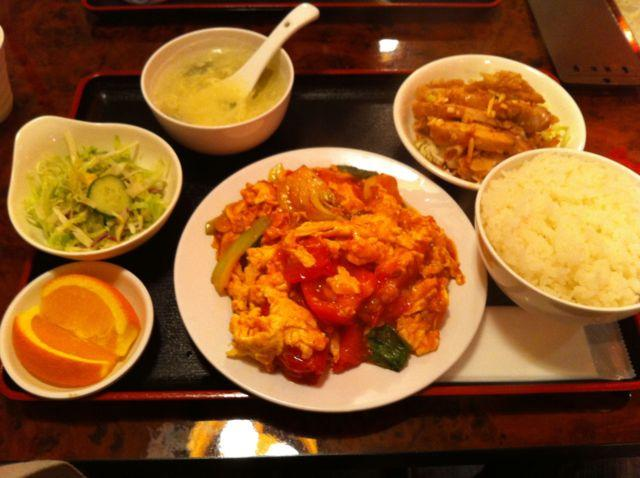rice: (480, 155, 639, 307)
